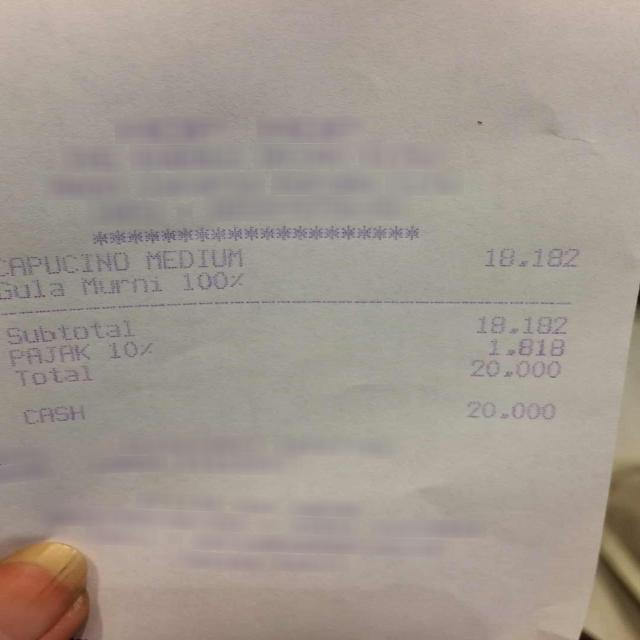kertas: (0, 0, 638, 640)
